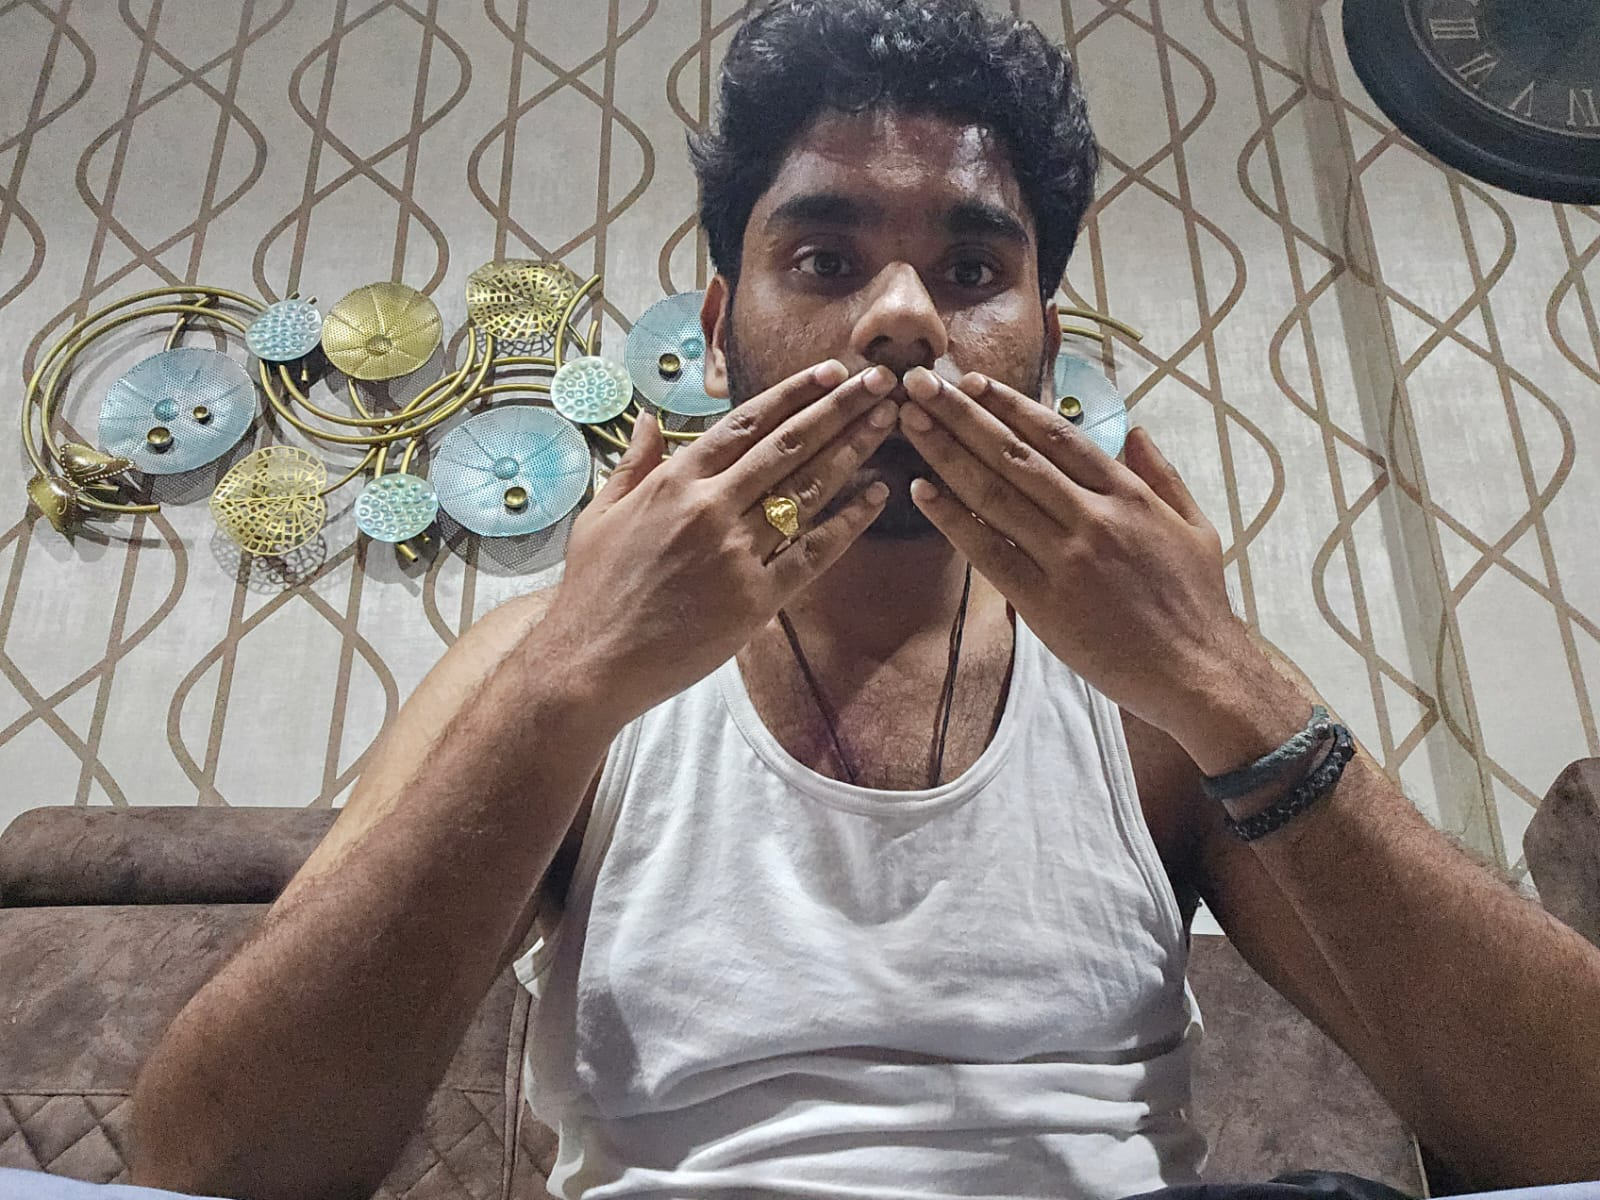thank you: (561, 357, 1226, 695)
